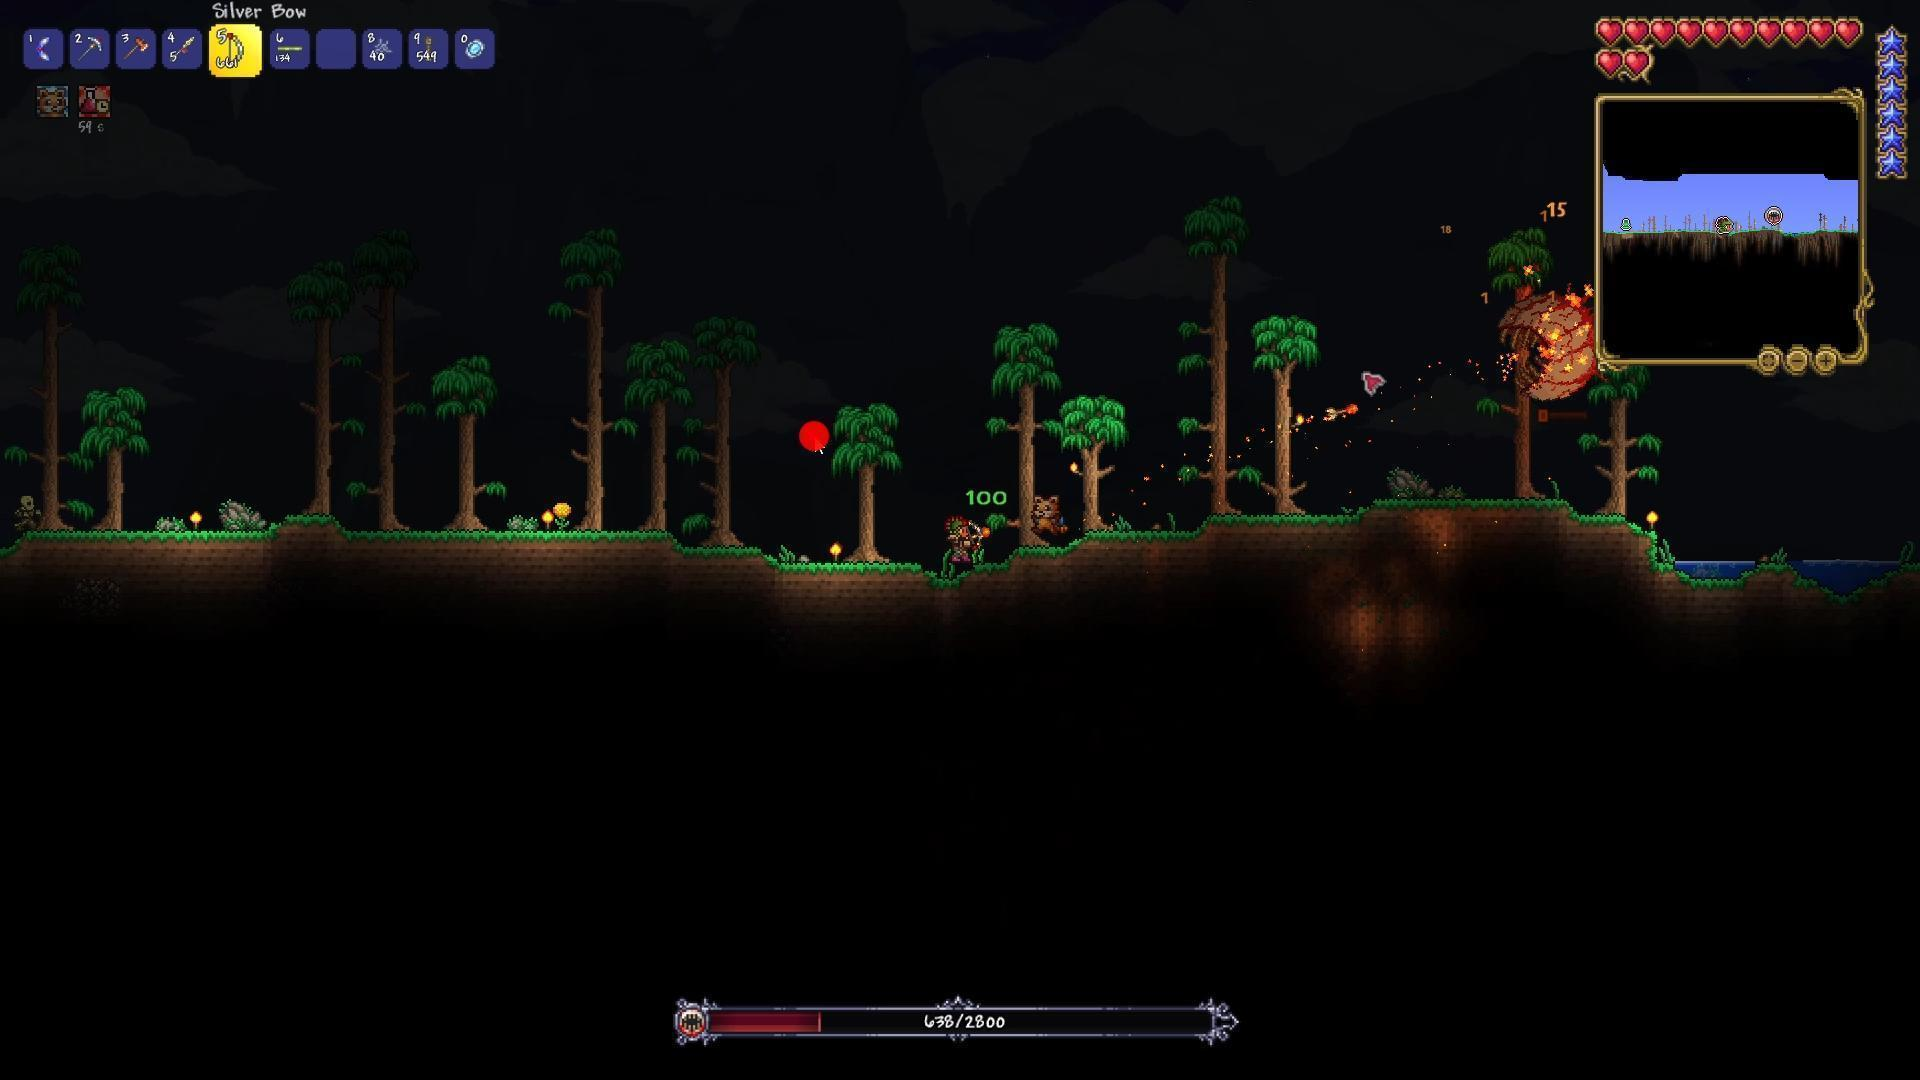axe: (120, 36, 153, 61)
cobwebI: (372, 38, 393, 63)
eyeC: (1441, 270, 1663, 443)
